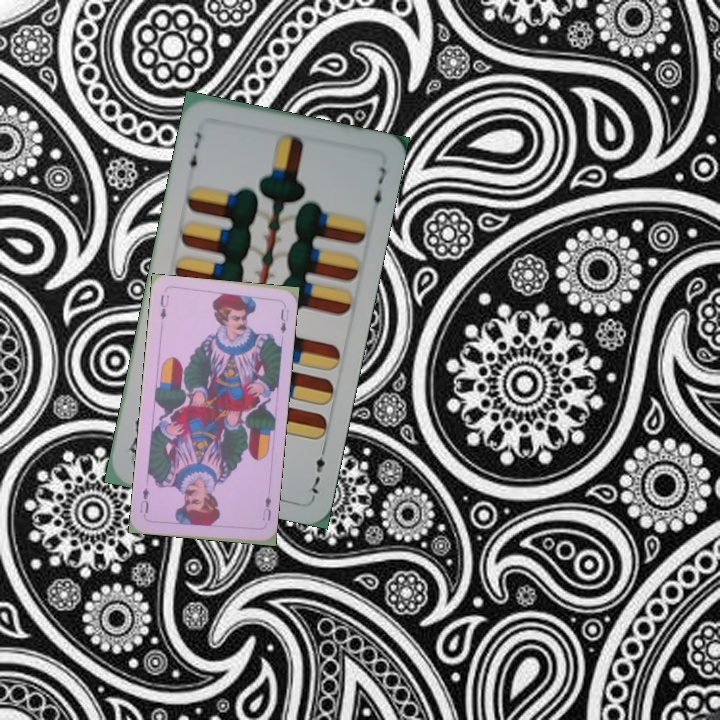E7: (304, 441, 329, 499), (184, 128, 204, 177)
EU: (258, 492, 274, 523), (156, 291, 172, 322)
